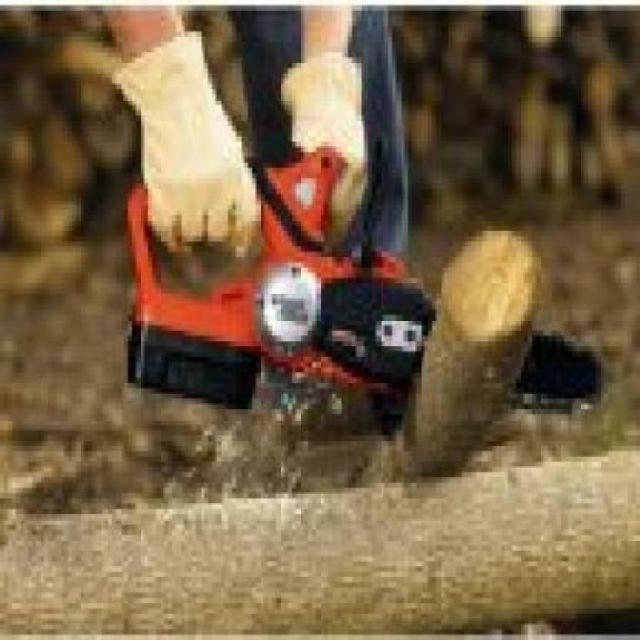Chainsaw: (126, 142, 612, 418)
